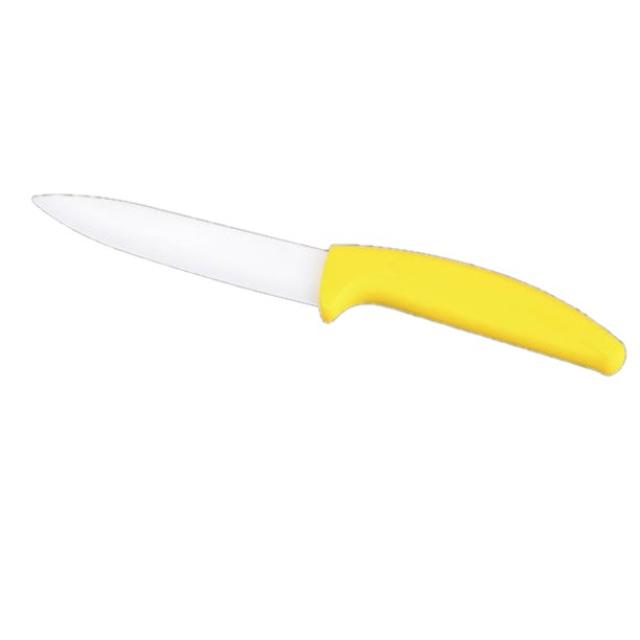knife: (28, 187, 631, 389)
